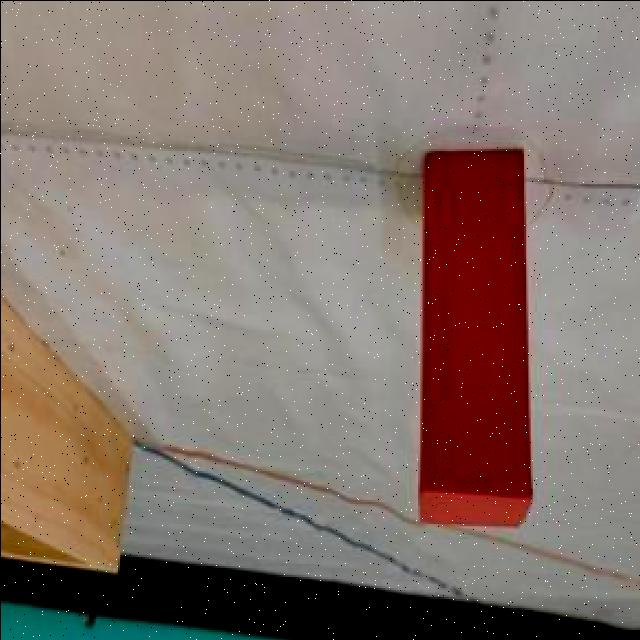redbox: (419, 145, 534, 528)
